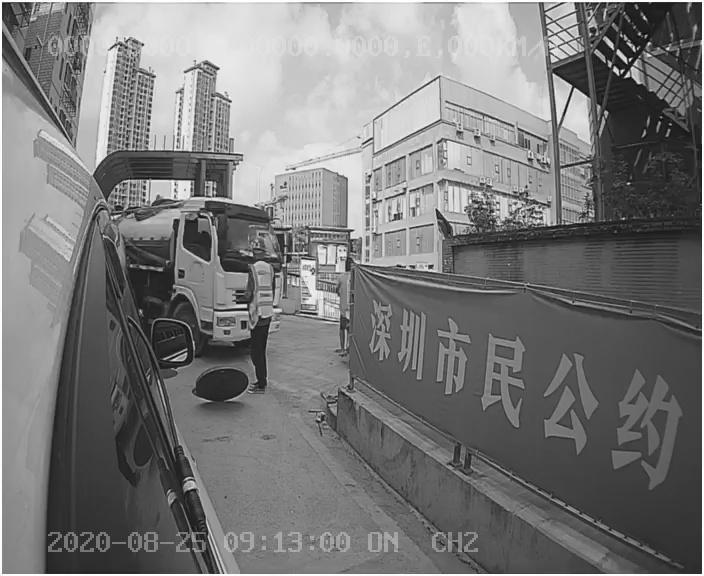person: (239, 242, 279, 394)
